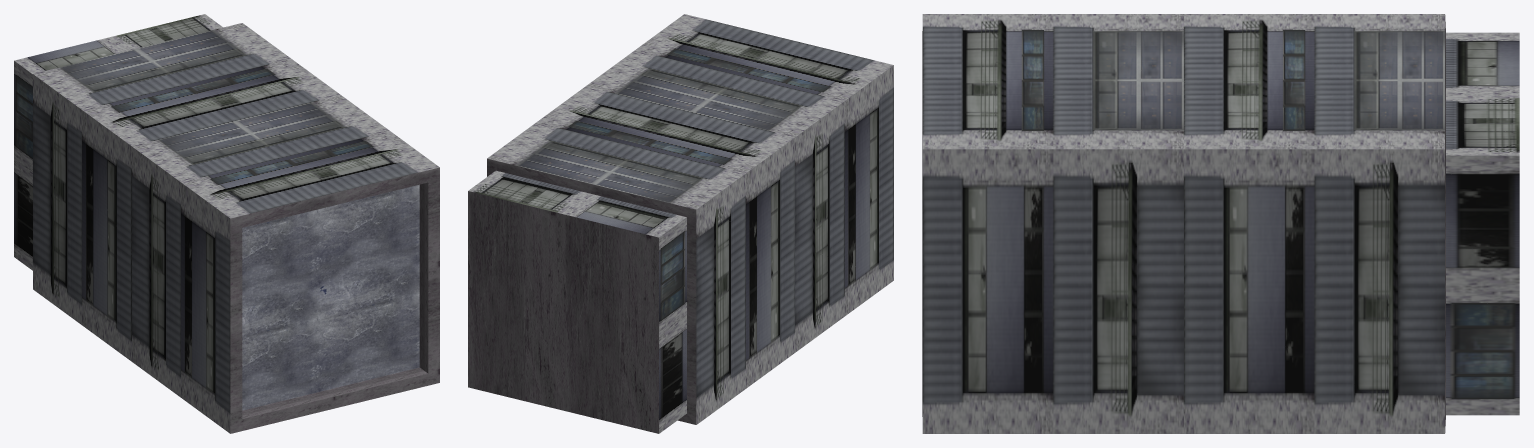
File: urbanoffice2c_wtf.obj
3 renders of one model, left to right at view 1: azimuth 30°, elevation 25°; view 2: azimuth 150°, elevation 25°; view 3: azimuth 270°, elevation 25°, orthographic. The views are drawn at different scales.
Visible parts, largest first — view 1: group5, group4, group3; view 2: group5, group3; view 3: group5, group3.
Boxes of the visible parts, x1,y1,x2,y2 form: group5: (14, 14, 439, 433); group4: (242, 184, 419, 410); group3: (230, 167, 439, 433); group5: (468, 14, 893, 433); group3: (468, 158, 696, 433); group5: (922, 14, 1519, 433); group3: (922, 15, 1445, 432).
Bounding box in the file's own units: 354 × 347 × 660.
